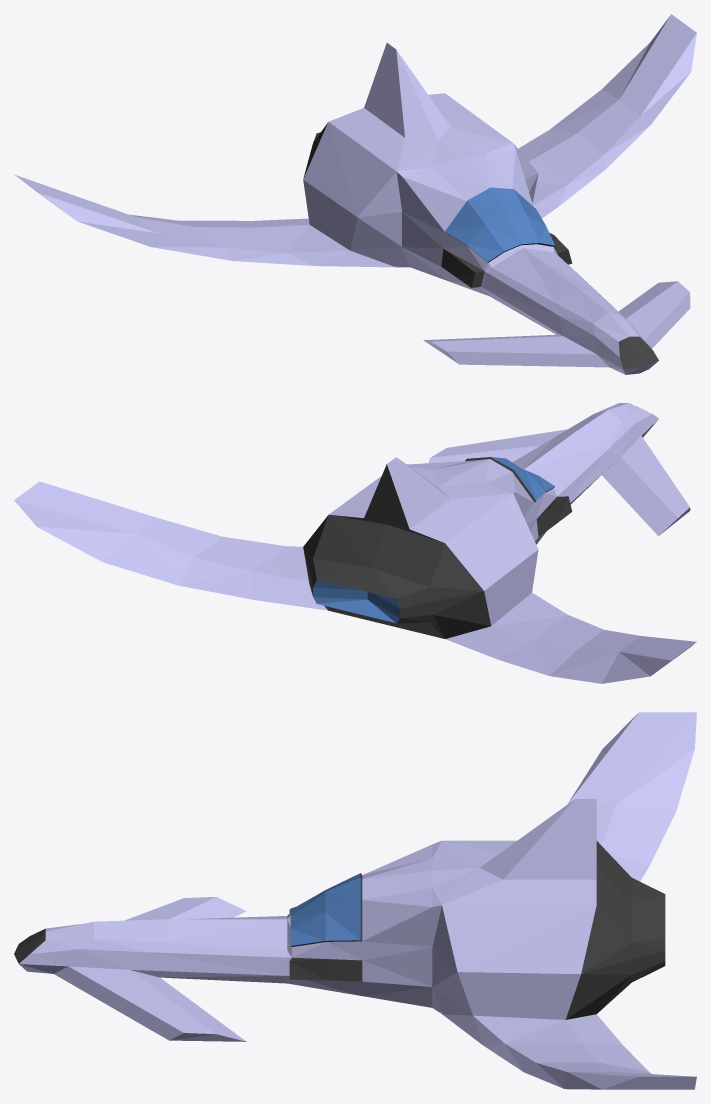
The model's file is Ship 1.fbx.
The picture shows the model from 3 angles, top to bottom: view 1: azimuth 30°, elevation 25°; view 2: azimuth 150°, elevation 25°; view 3: azimuth 270°, elevation 25°; orthographic projection. The views are drawn at different scales.
Visible parts, largest first — view 1: Cube; view 2: Cube; view 3: Cube.
Part boxes in pixels (box(x1,y1,x2,y2)): Cube: box(15, 14, 696, 374); Cube: box(14, 403, 696, 683); Cube: box(14, 712, 696, 1089).
Bounding box in the file's own units: 1127 × 264 × 893.
